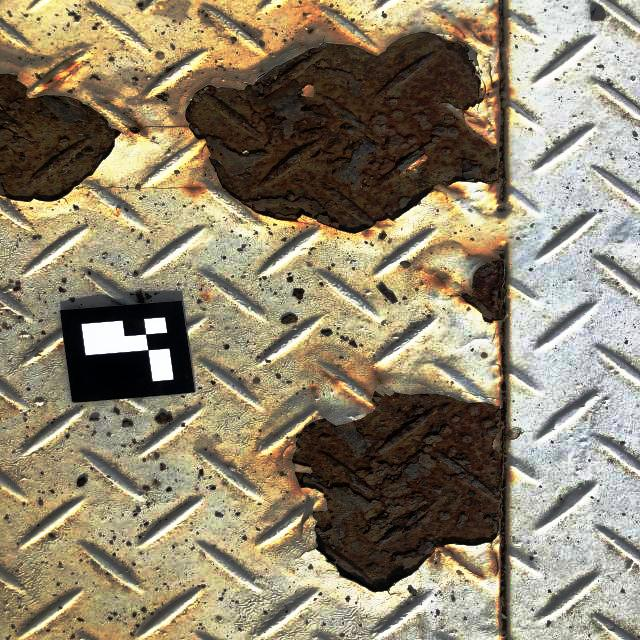Corrosion: (185, 31, 500, 232), (293, 394, 504, 592), (0, 73, 118, 201), (461, 259, 506, 322)
